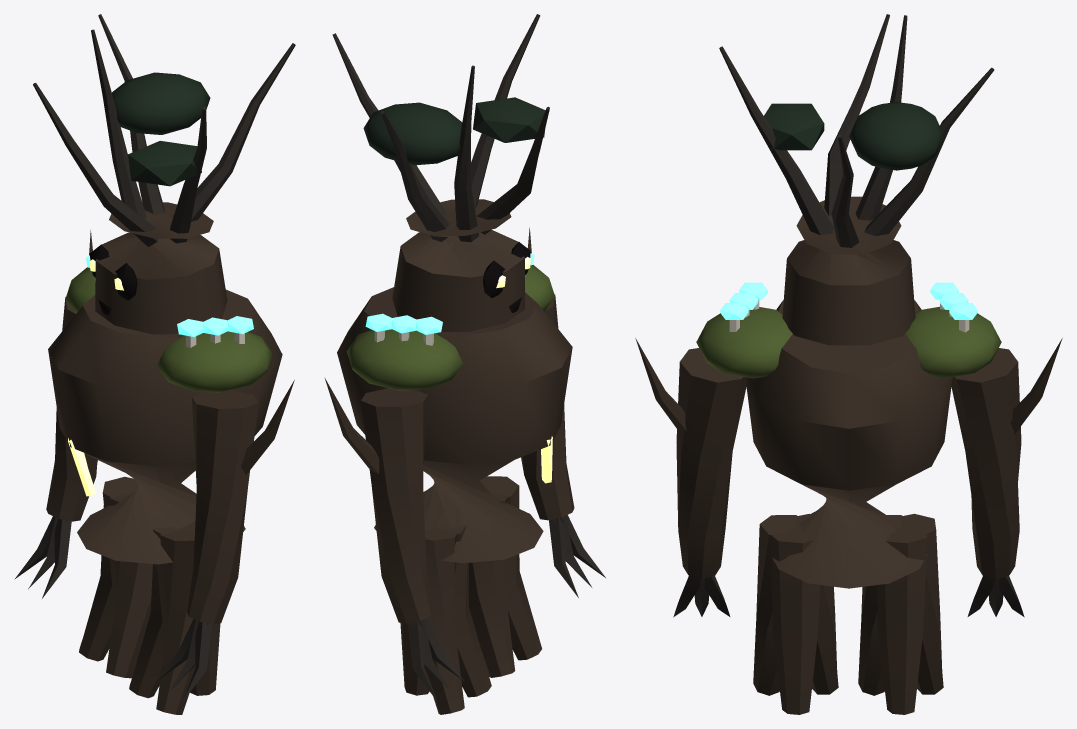
File: m_treant.glb
3 renders of one model, left to right at view 1: azimuth 30°, elevation 25°; view 2: azimuth 150°, elevation 25°; view 3: azimuth 270°, elevation 25°, orthographic. The views are drawn at different scales.
Parts seen in each view (by area): view 1: body, head, armL, legL, legR, armR; view 2: body, head, armR, legR, legL, armL; view 3: body, head, armL, armR, legL, legR.
Part boxes in pixels (bbox=[...]): body: bbox=[48, 255, 282, 564]; head: bbox=[33, 14, 295, 334]; armL: bbox=[155, 380, 294, 701]; legL: bbox=[129, 521, 220, 714]; legR: bbox=[79, 476, 152, 678]; armR: bbox=[14, 230, 97, 598]; body: bbox=[337, 253, 572, 563]; head: bbox=[332, 14, 549, 331]; armR: bbox=[324, 377, 464, 701]; legR: bbox=[400, 519, 491, 714]; legL: bbox=[469, 476, 541, 677]; armL: bbox=[521, 227, 605, 597]; body: bbox=[696, 282, 1001, 588]; head: bbox=[719, 14, 994, 345]; armL: bbox=[635, 338, 746, 617]; armR: bbox=[951, 338, 1062, 617]; legL: bbox=[753, 513, 838, 714]; legR: bbox=[858, 513, 943, 714].
Bounding box in the file's own units: 0.6053 × 1.55 × 0.896.
